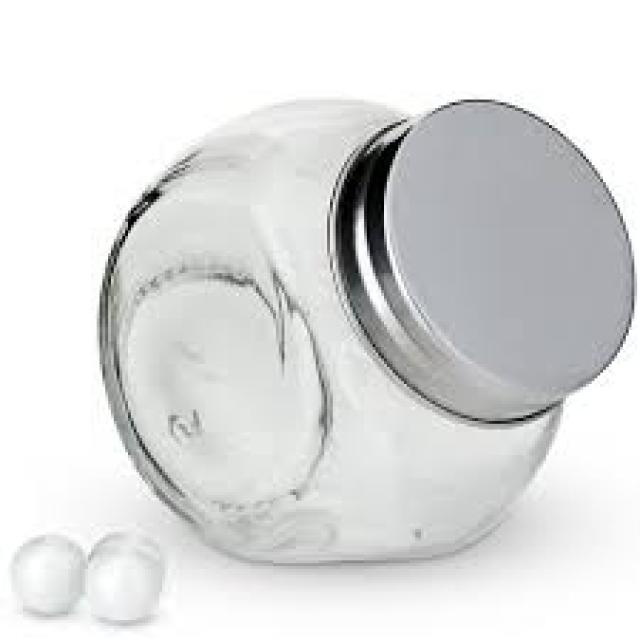Anorganik: (97, 94, 560, 563), (336, 97, 628, 424)
